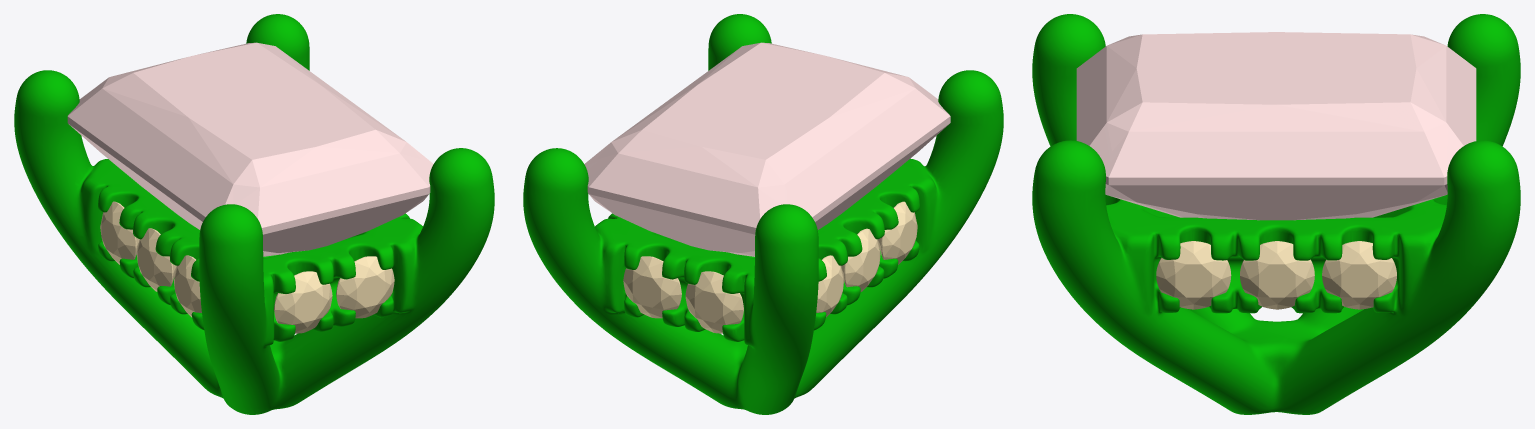
3 renders of one model, left to right at view 1: azimuth 30°, elevation 25°; view 2: azimuth 150°, elevation 25°; view 3: azimuth 270°, elevation 25°, orthographic. The views are drawn at different scales.
Visible parts, largest first — view 1: Metal01, Diamond_Radiant, Diamond_Round.001, Diamond_Round, Diamond_Round.003, Diamond_Round.002, Diamond_Round.004; view 2: Metal01, Diamond_Radiant, Diamond_Round.008, Diamond_Round.009, Diamond_Round.003, Diamond_Round.004, Diamond_Round.002; view 3: Metal01, Diamond_Radiant, Diamond_Round.006, Diamond_Round.005, Diamond_Round.007.
Part boxes in pixels (bbox=[...]): Metal01: bbox=[14, 14, 494, 414]; Diamond_Radiant: bbox=[67, 42, 433, 256]; Diamond_Round.001: bbox=[336, 256, 394, 318]; Diamond_Round: bbox=[274, 271, 332, 333]; Diamond_Round.003: bbox=[136, 228, 176, 291]; Diamond_Round.002: bbox=[100, 201, 139, 264]; Diamond_Round.004: bbox=[174, 255, 201, 317]; Metal01: bbox=[523, 14, 1003, 414]; Diamond_Radiant: bbox=[584, 42, 950, 256]; Diamond_Round.008: bbox=[623, 256, 681, 318]; Diamond_Round.009: bbox=[685, 271, 743, 333]; Diamond_Round.003: bbox=[841, 228, 880, 291]; Diamond_Round.004: bbox=[877, 201, 917, 264]; Diamond_Round.002: bbox=[816, 255, 843, 317]; Metal01: bbox=[1032, 14, 1520, 414]; Diamond_Radiant: bbox=[1076, 32, 1476, 220]; Diamond_Round.006: bbox=[1240, 241, 1314, 309]; Diamond_Round.005: bbox=[1156, 241, 1231, 309]; Diamond_Round.007: bbox=[1322, 241, 1396, 309].
Bounding box in the file's own units: 5.23 × 5.15 × 6.84.
